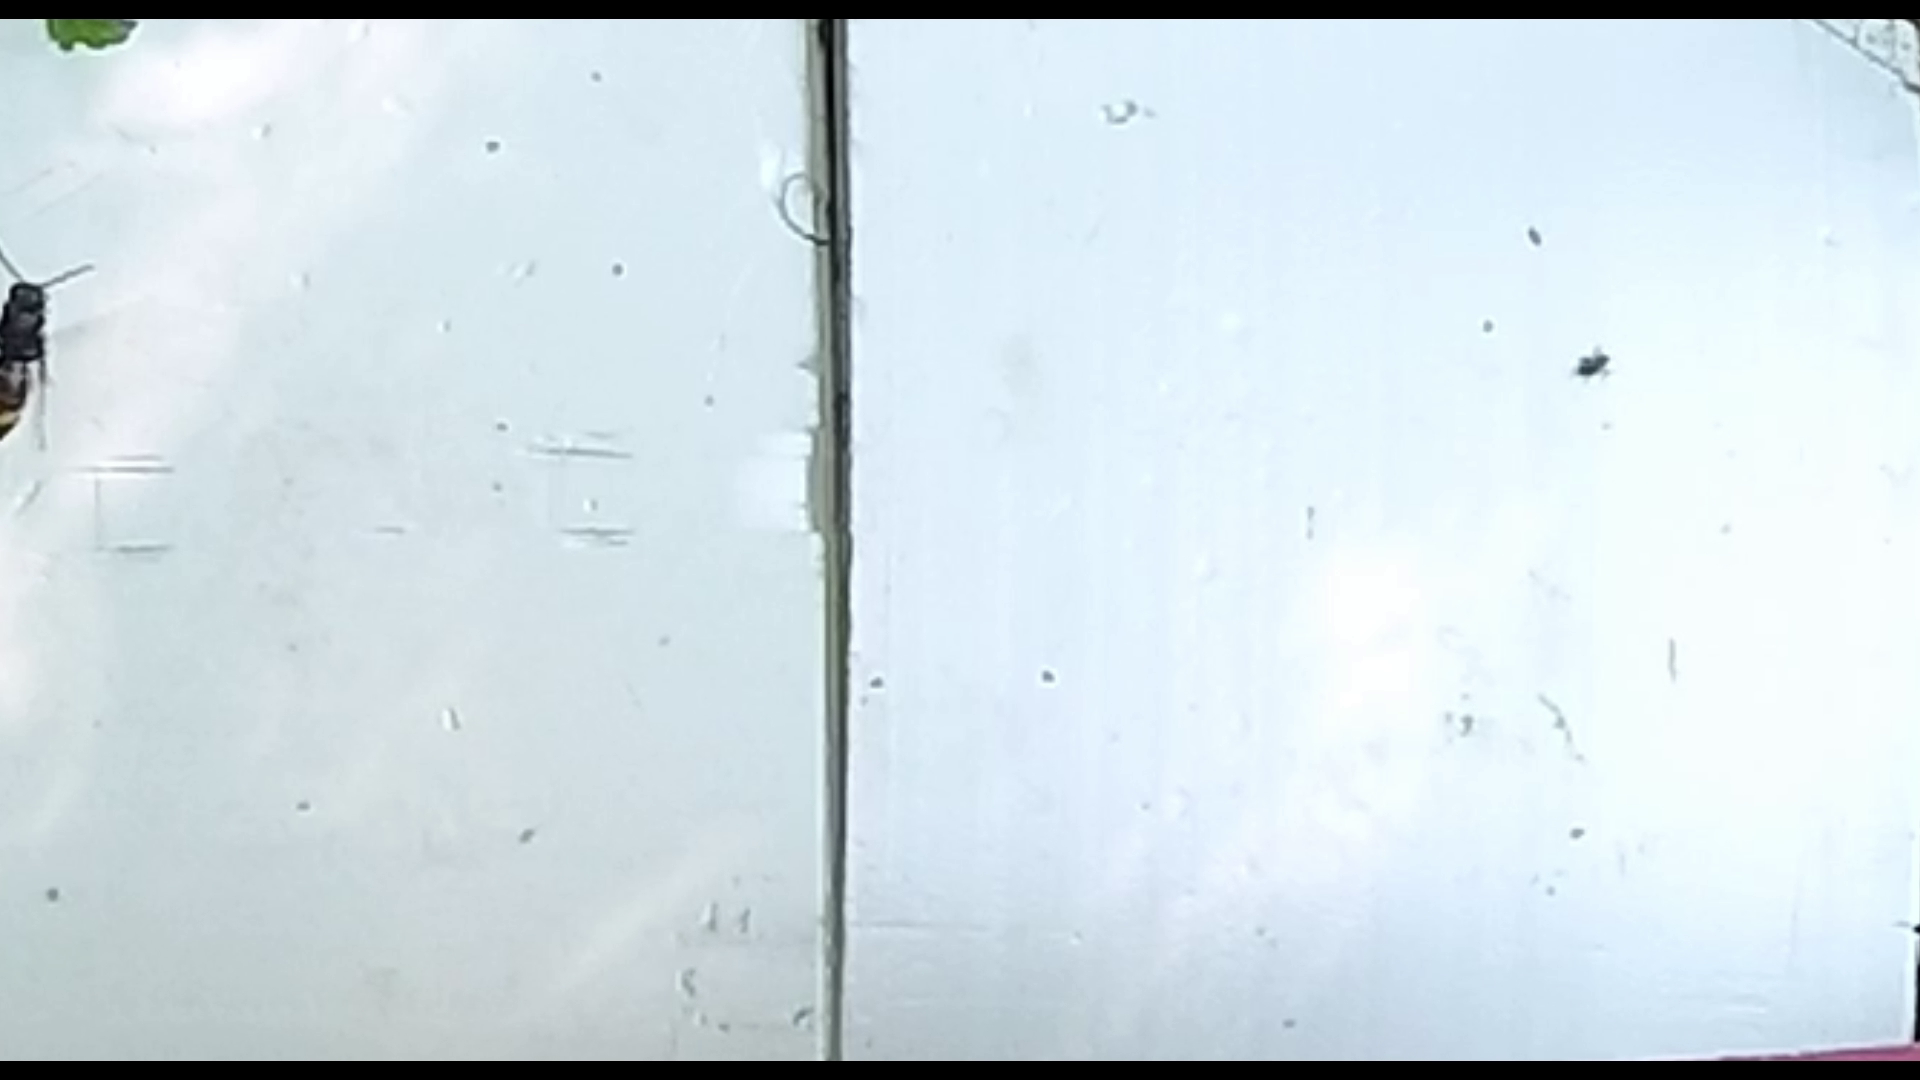Asian_hornets: (0, 244, 105, 469)
